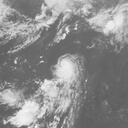cyclone: (52, 52, 88, 89)
